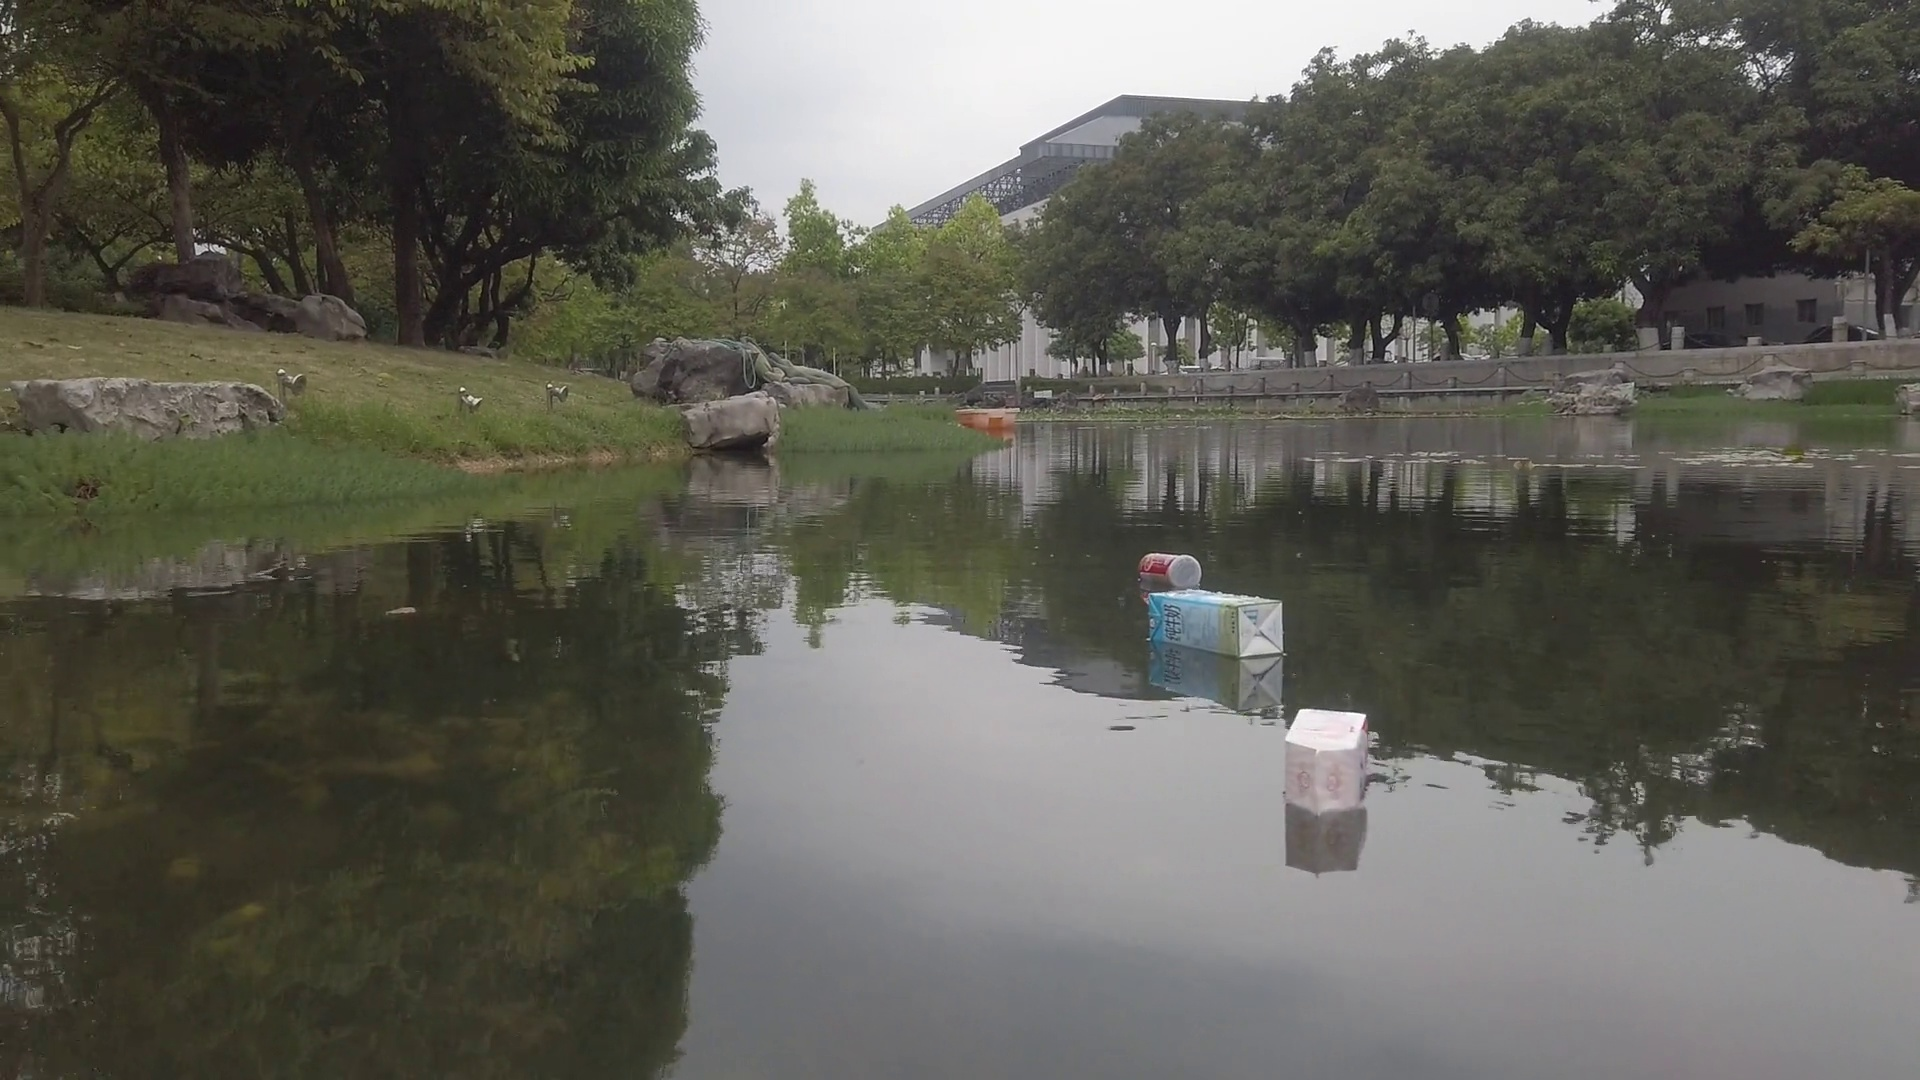bottle: (1137, 549, 1205, 588)
carton: (1147, 592, 1294, 659), (1286, 704, 1375, 810)
